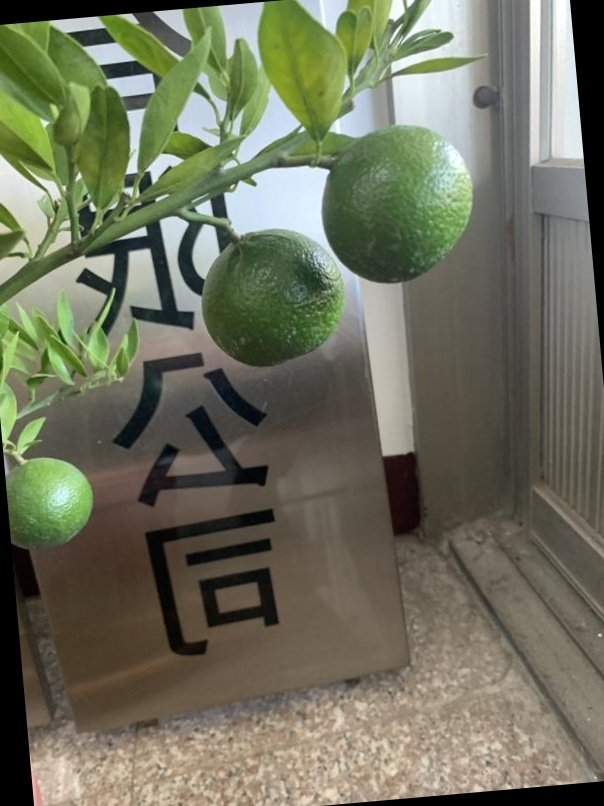Tangerine: (321, 126, 479, 286), (197, 229, 347, 370), (1, 453, 98, 553)
